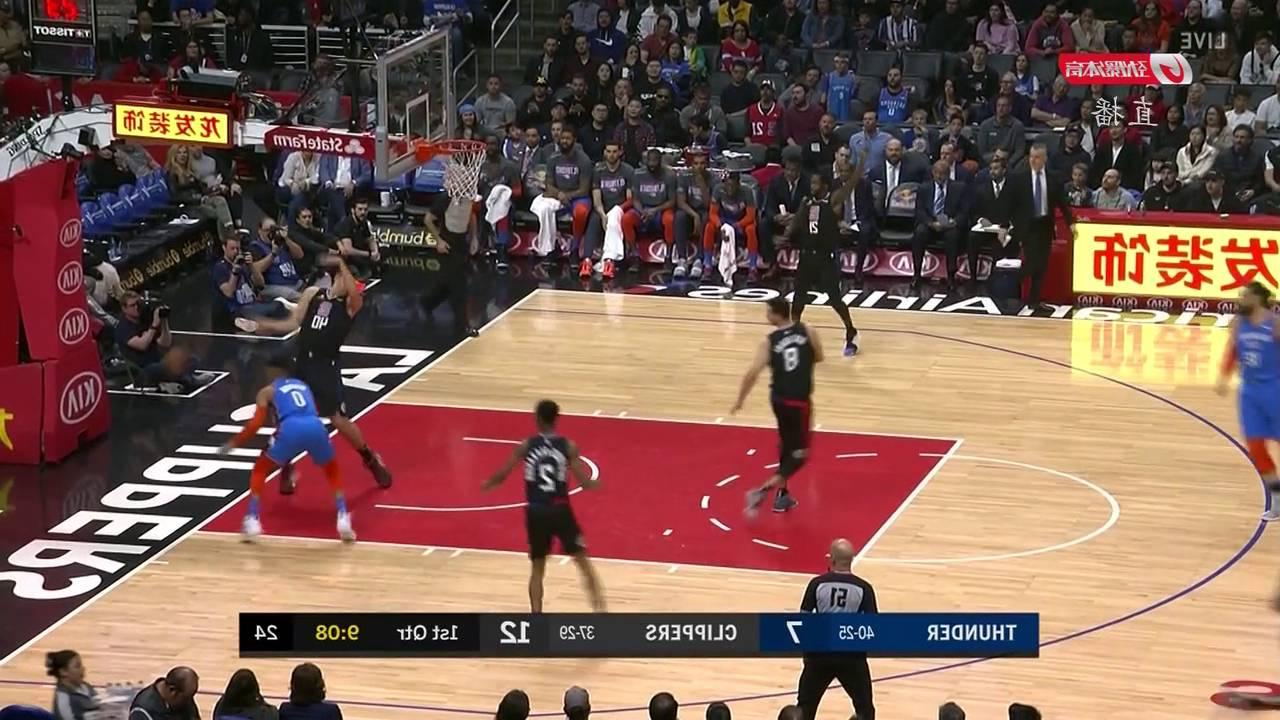basketball: (161, 343, 197, 374)
